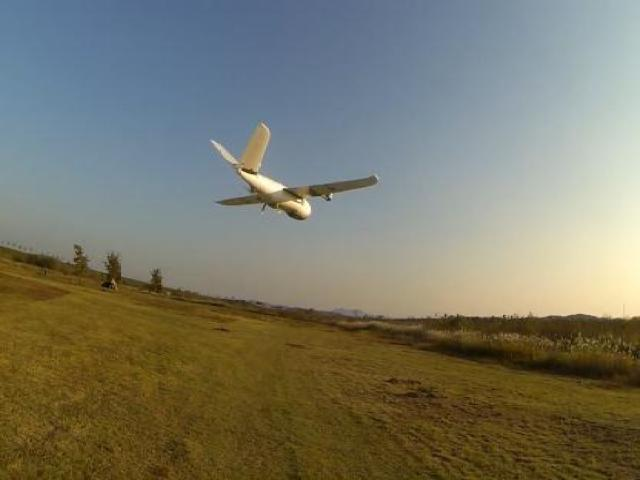uav: (202, 114, 384, 239)
